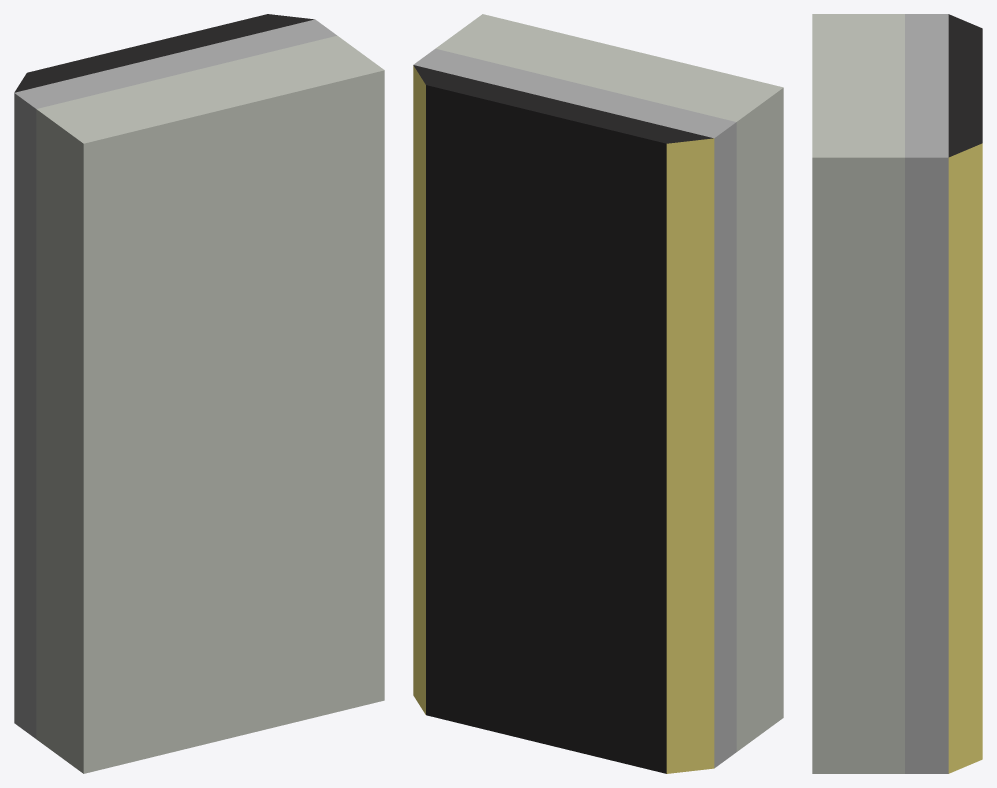
Rendered from filler.fbx.
3 renders of one model, left to right at view 1: azimuth 30°, elevation 25°; view 2: azimuth 150°, elevation 25°; view 3: azimuth 270°, elevation 25°, orthographic. The views are drawn at different scales.
Visible parts, largest first — view 1: Cube; view 2: Cube; view 3: Cube.
Boxes of the visible parts, left/top/right/bottom form: Cube: left=14, top=14, right=384, bottom=773; Cube: left=413, top=14, right=783, bottom=773; Cube: left=812, top=14, right=982, bottom=773.
Bounding box in the file's own units: 100 × 200 × 50.
